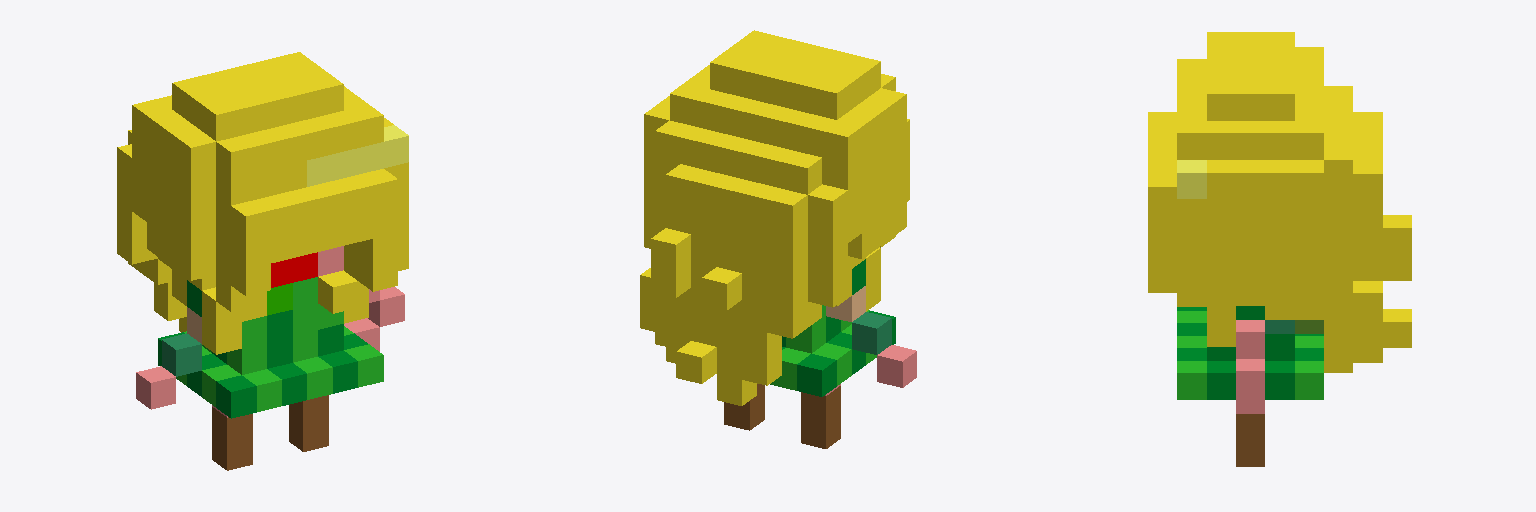
3 renders of one model, left to right at view 1: azimuth 30°, elevation 25°; view 2: azimuth 150°, elevation 25°; view 3: azimuth 270°, elevation 25°, orthographic.
Parts seen in each view (by area): view 1: Princess; view 2: Princess; view 3: Princess.
Part boxes in pixels (bbox=[...]): Princess: bbox=[117, 52, 408, 470]; Princess: bbox=[640, 30, 916, 448]; Princess: bbox=[1148, 32, 1411, 466].
Size of the model in its own units: 10 by 14 by 9.
Materials: 1 (1 with a texture image).